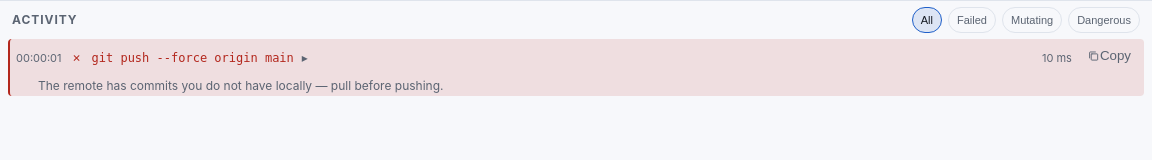
Test: a filtered row keeps its expandable output, and its risk is signalled
Click the button "Failed".
click(972, 20)  # box [948,7,996,33]
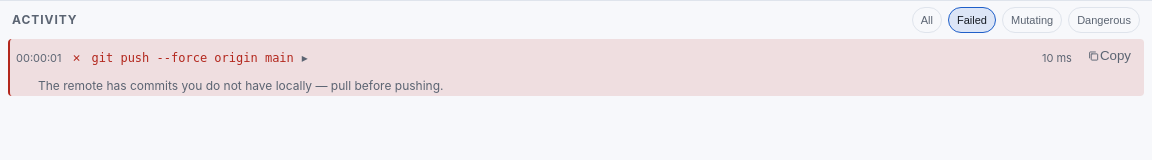
Click the button with class "log-cmd".
click(193, 58)  # box [92,50,294,64]
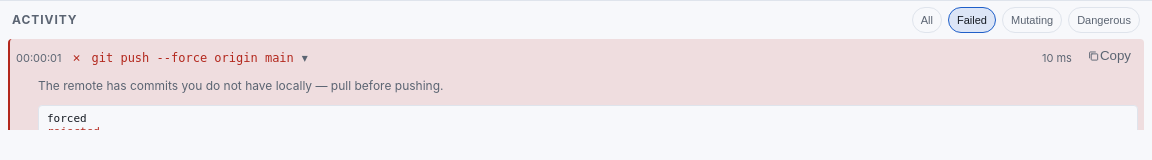
Expected: the element with class "log-output" shows "forced", [47,112,87,125]
